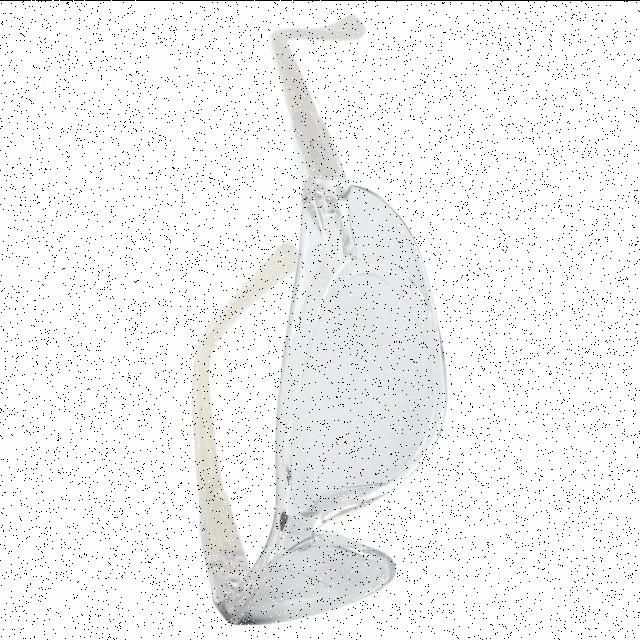Goggles: (165, 5, 453, 631)
